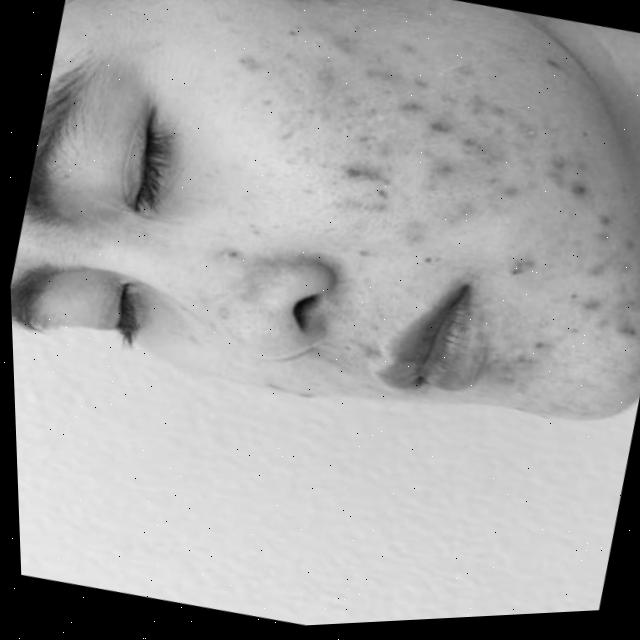Rosacea: (182, 0, 640, 372)
